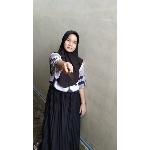Pisau: (67, 66, 79, 87)
